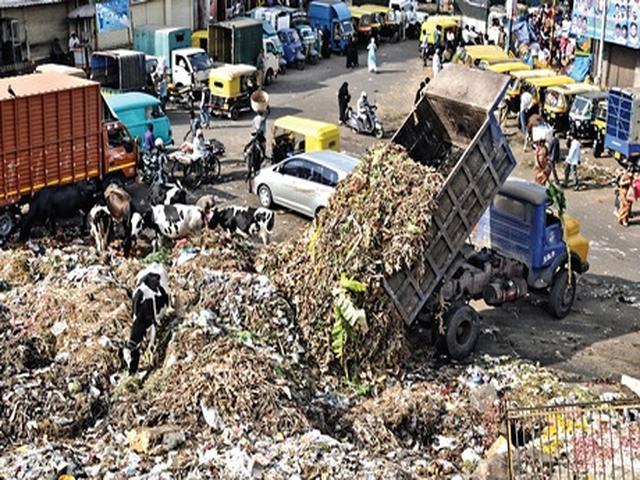garbage: (201, 273, 336, 461), (9, 268, 122, 468), (315, 365, 496, 473), (352, 172, 413, 261)
